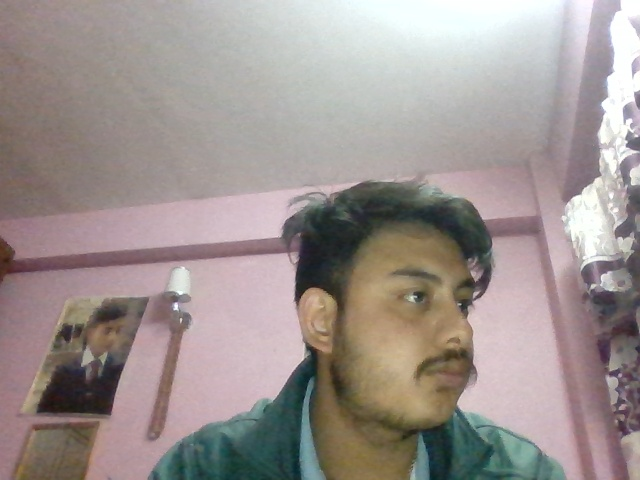no mask: (325, 321, 493, 451)
